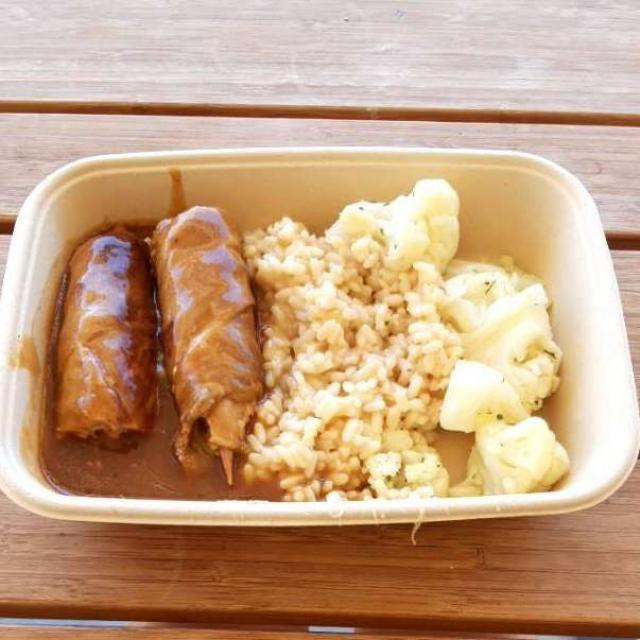cauliflower: (343, 195, 546, 494)
rice: (241, 206, 444, 490)
sauce: (34, 221, 281, 496)
